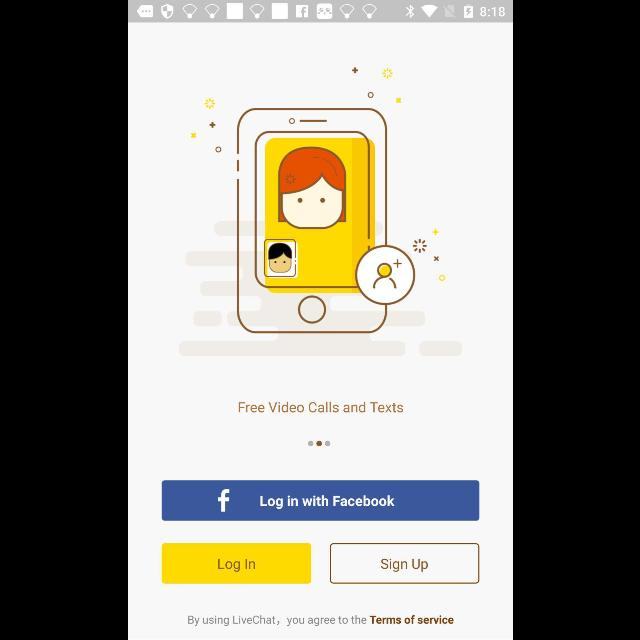image: (178, 66, 460, 356)
pageindicator: (308, 440, 330, 448)
text: (185, 614, 452, 626), (238, 401, 402, 413)
textbutton: (162, 481, 478, 521), (329, 542, 479, 584), (161, 542, 311, 584)
uppertaskbar: (128, 1, 512, 23)
